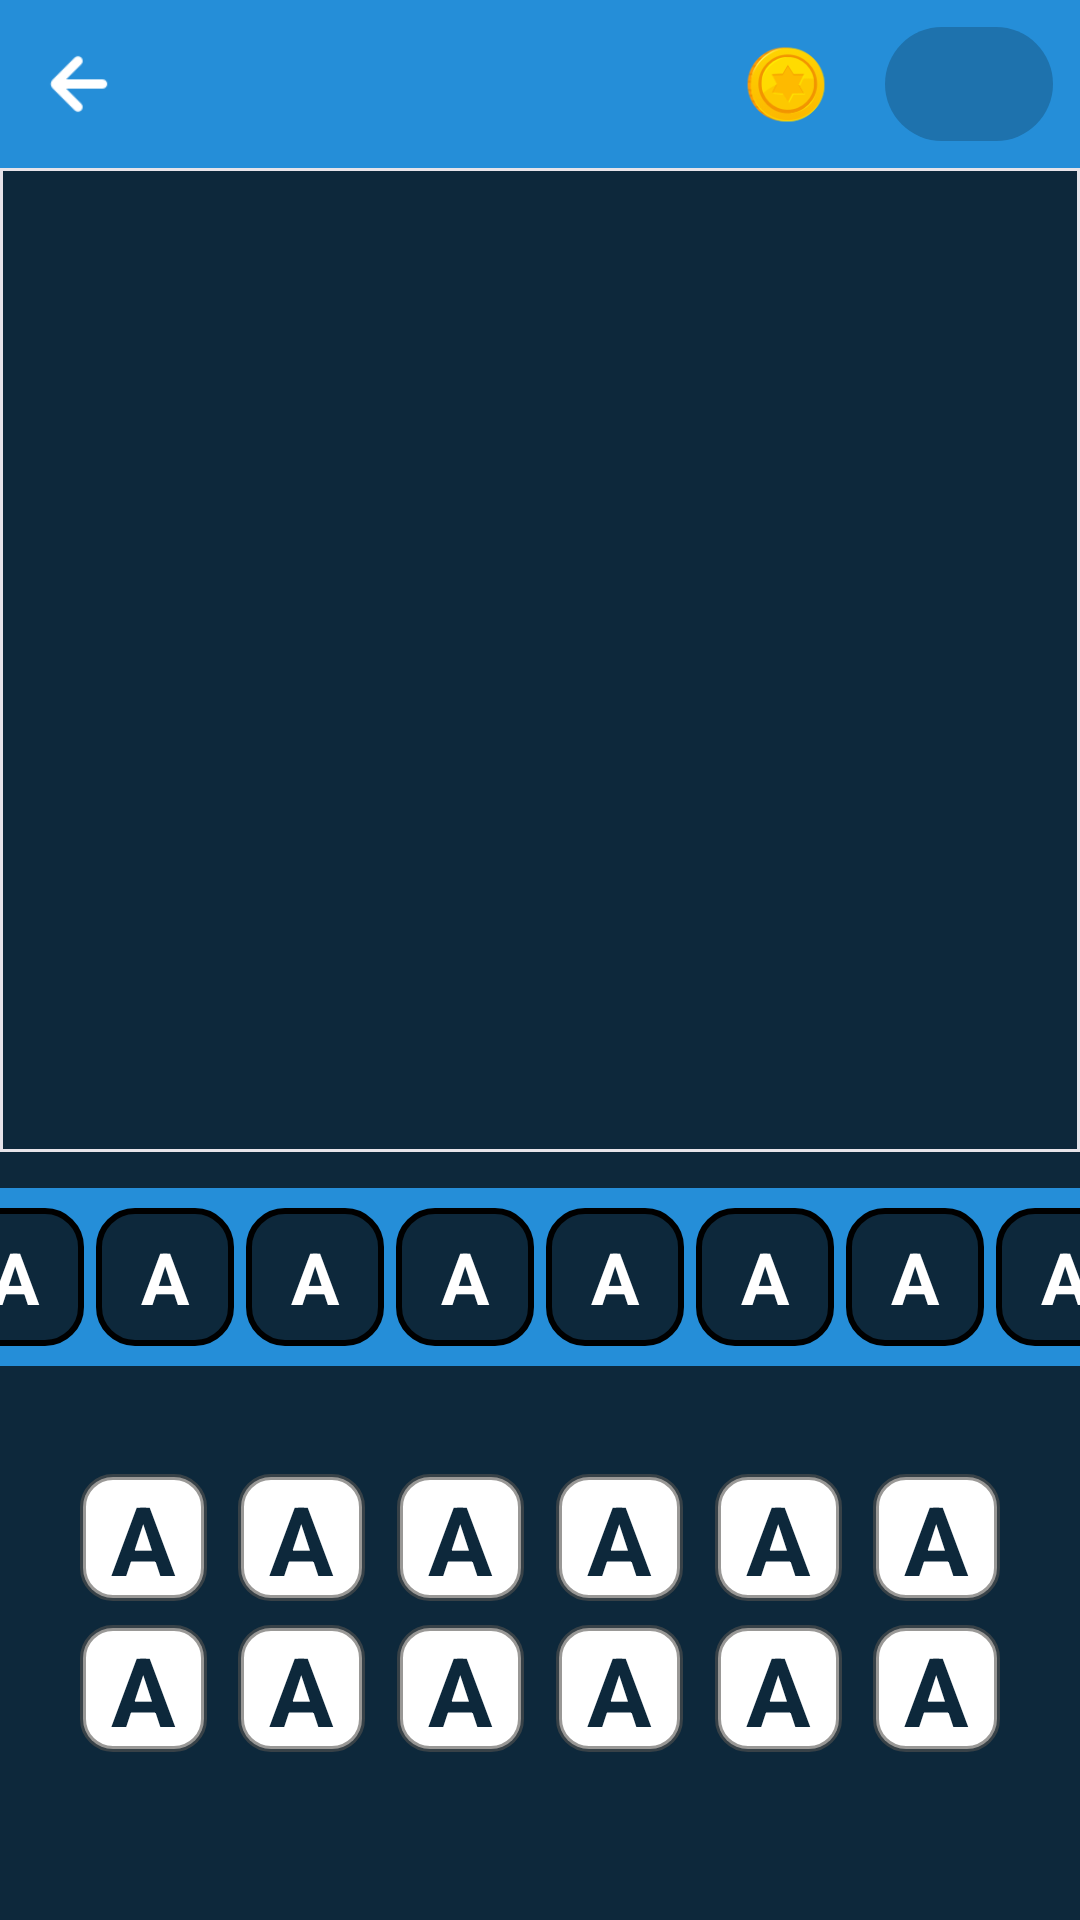

Icon click points for this 1080 × 1920 phone screenshot, format (x=x, y=y):
back: (x=79, y=84)
coin: (x=786, y=84)
